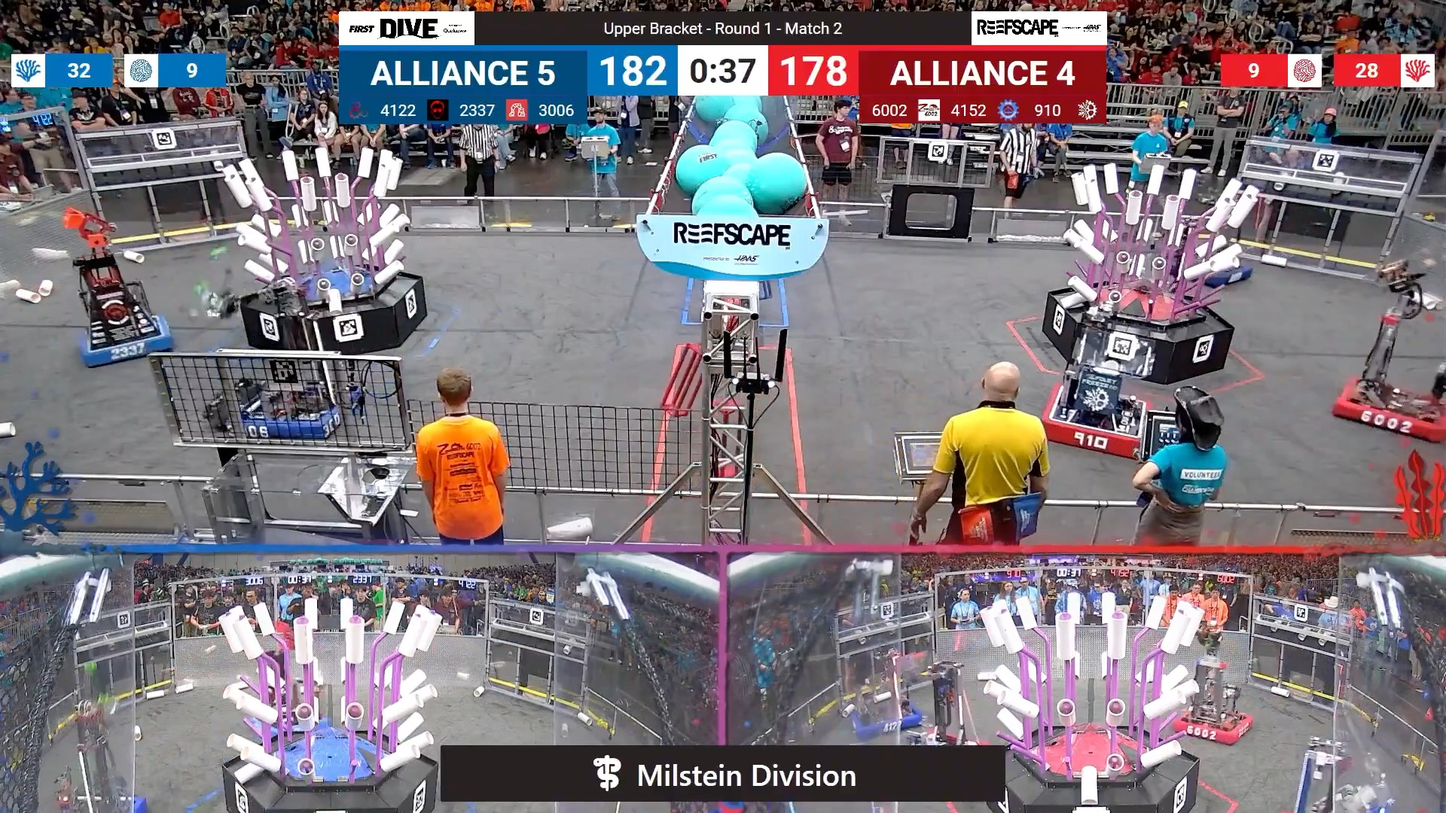bumpers: (1034, 378, 1168, 465), (1326, 371, 1444, 441), (235, 378, 346, 447), (72, 312, 181, 368), (1165, 703, 1258, 744)
